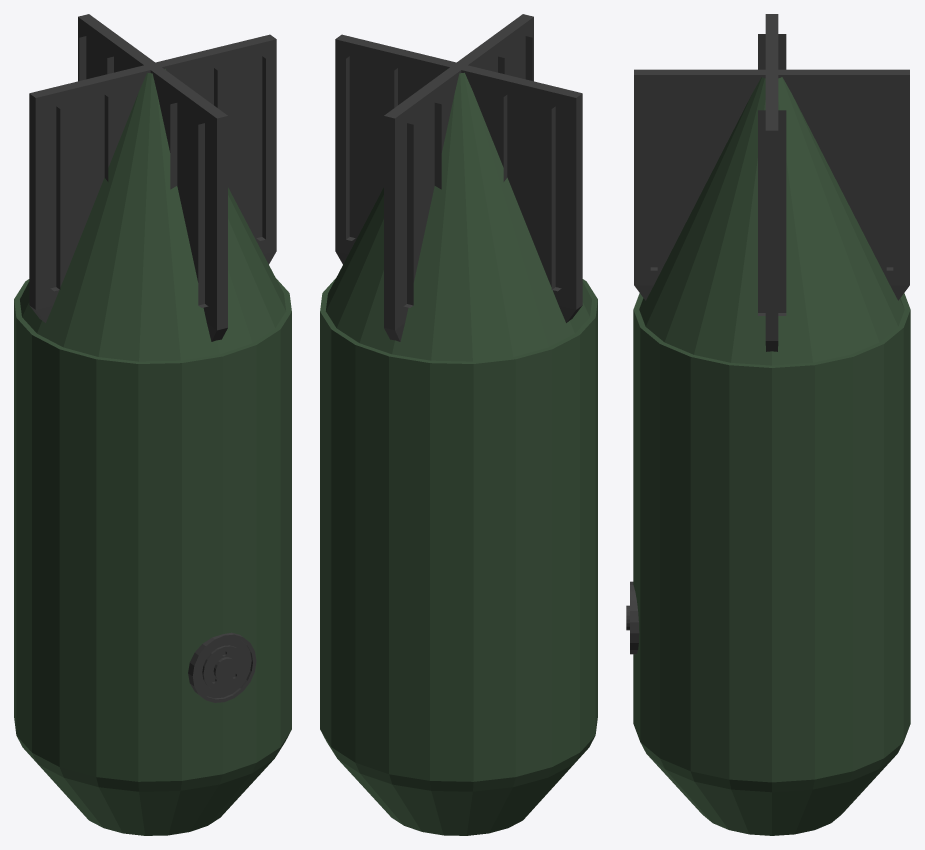
File: bomb.fbx
3 renders of one model, left to right at view 1: azimuth 30°, elevation 25°; view 2: azimuth 150°, elevation 25°; view 3: azimuth 270°, elevation 25°, orthographic.
Visible parts, largest first — view 1: Cylinder, Cylinder.001, Cube.001, Cube, Cylinder.002; view 2: Cylinder, Cylinder.001, Cube.001, Cube; view 3: Cylinder, Cylinder.001, Cube, Cube.001, Cylinder.002.
Boxes of the visible parts, x1,y1,x2,y2 form: Cylinder: (14, 278, 291, 835); Cylinder.001: (20, 68, 285, 361); Cube.001: (29, 34, 276, 322); Cube: (78, 14, 227, 341); Cylinder.002: (188, 632, 256, 702); Cylinder: (320, 278, 597, 835); Cylinder.001: (326, 68, 591, 361); Cube.001: (335, 34, 582, 322); Cube: (384, 14, 533, 341); Cylinder: (633, 293, 910, 835); Cylinder.001: (639, 77, 904, 365); Cube: (634, 69, 909, 300); Cube.001: (758, 14, 786, 351); Cylinder.002: (626, 581, 639, 654).
Bounding box in the file's own units: 167 × 503 × 171.
